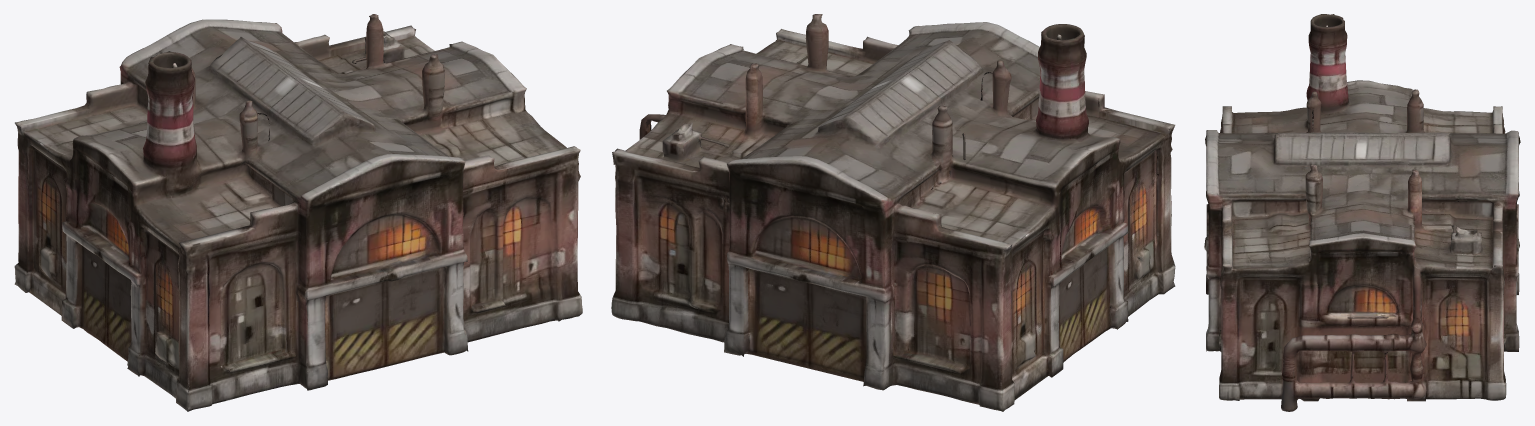
Rendered from building_boiler_house.glb.
The picture shows the model from 3 angles, left to right: view 1: azimuth 30°, elevation 25°; view 2: azimuth 150°, elevation 25°; view 3: azimuth 270°, elevation 25°; orthographic projection. The views are drawn at different scales.
Parts seen in each view (by area): view 1: building_boiler_house; view 2: building_boiler_house; view 3: building_boiler_house.
Boxes of the visible parts, x1,y1,x2,y2 form: building_boiler_house: (14, 14, 582, 411); building_boiler_house: (611, 14, 1175, 411); building_boiler_house: (1204, 14, 1520, 411).
Size of the model in its own units: 35 by 22.81 by 27.15.
Materials: 1 (1 with a texture image).
